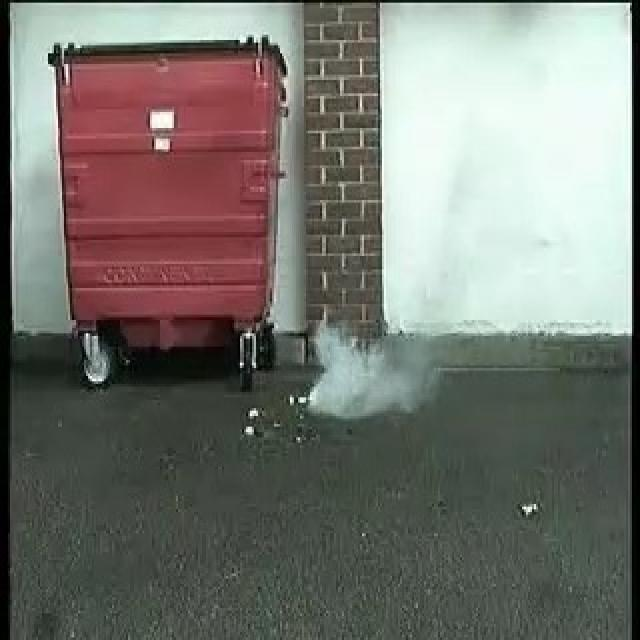smoke: (300, 322, 430, 418)
